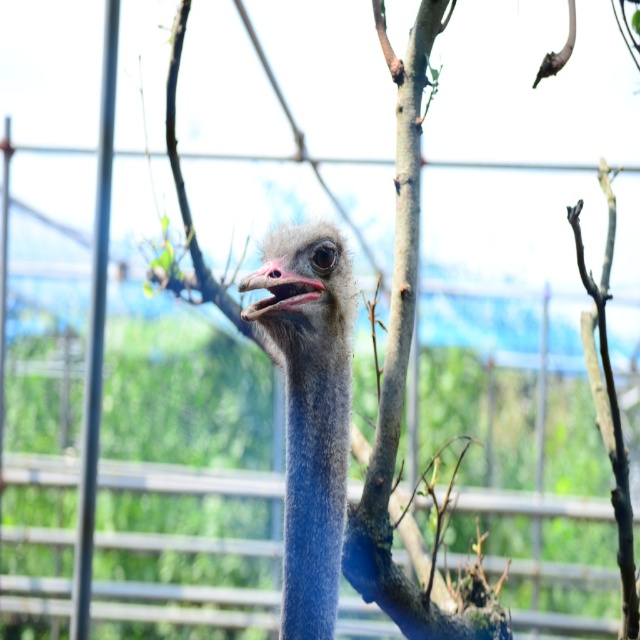Ostrich: (237, 211, 361, 640)
